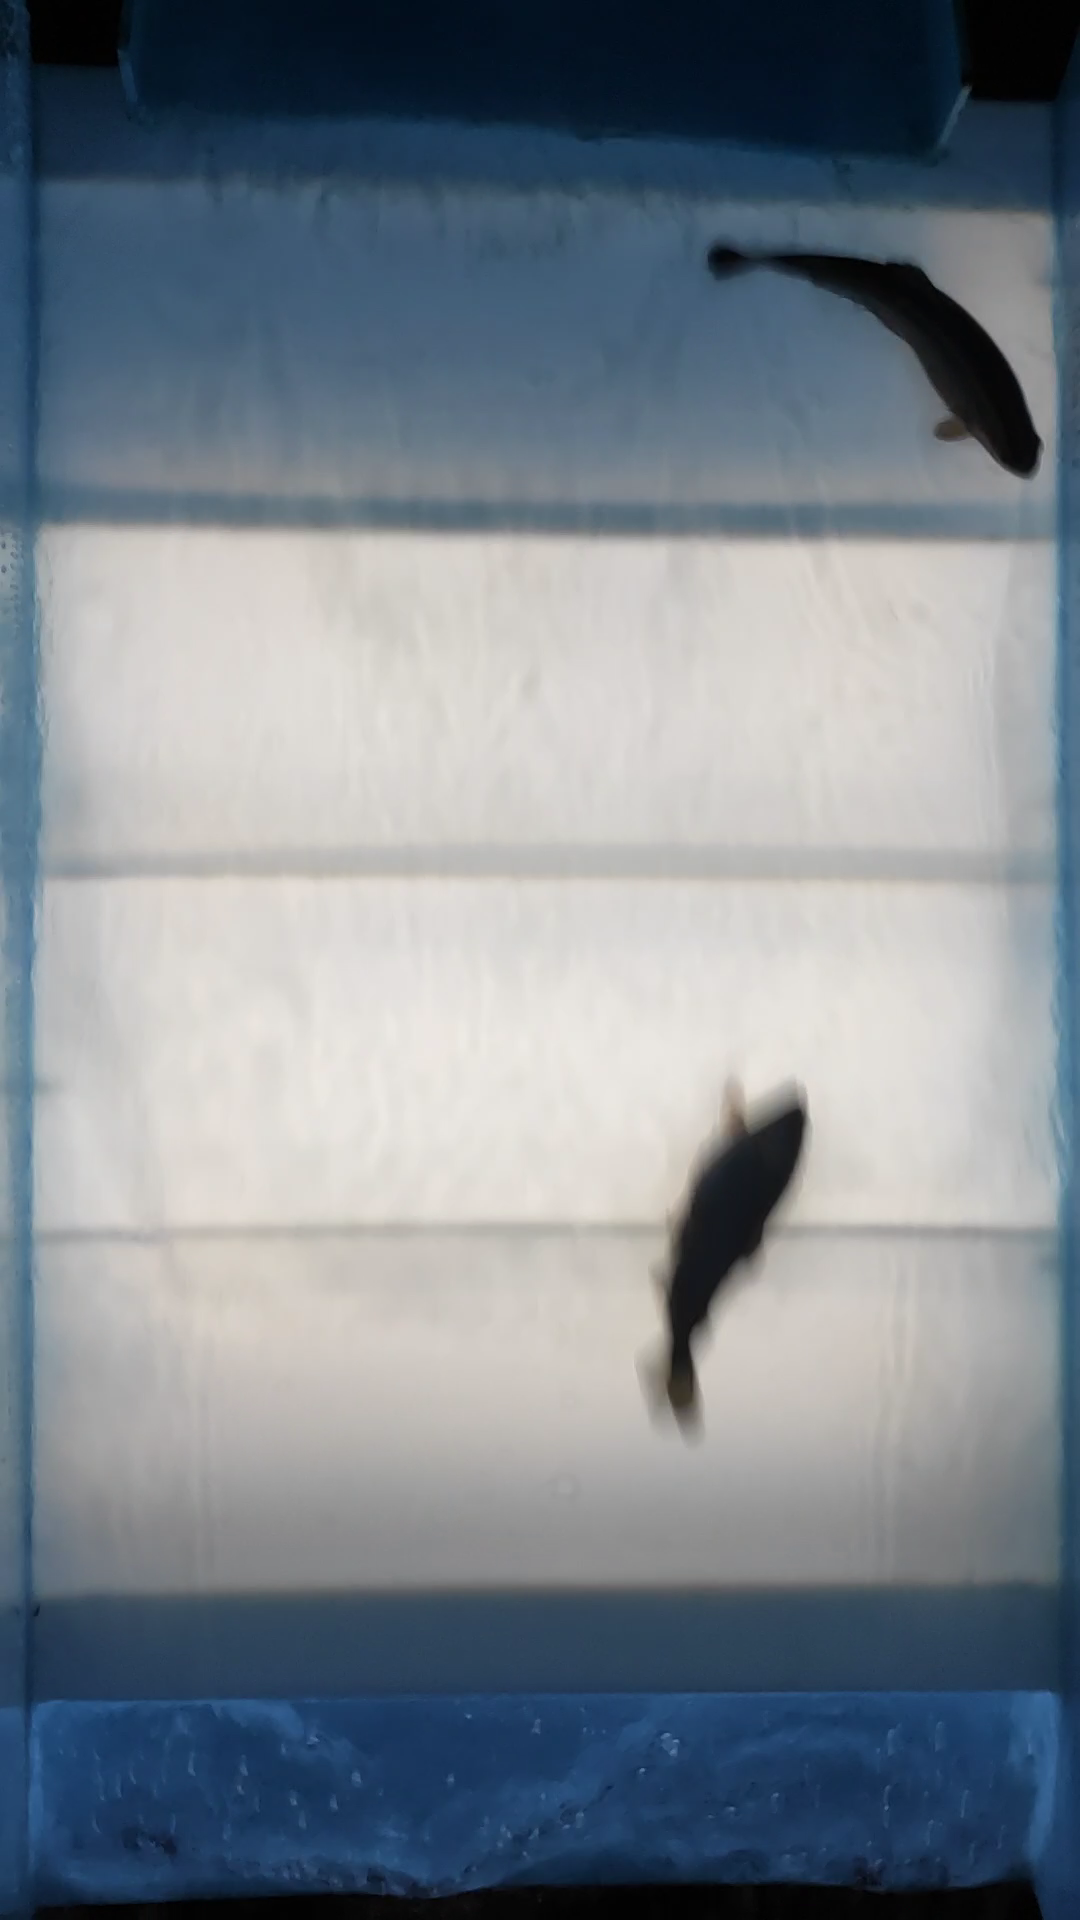fish: (698, 233, 1051, 486), (634, 1074, 810, 1448)
